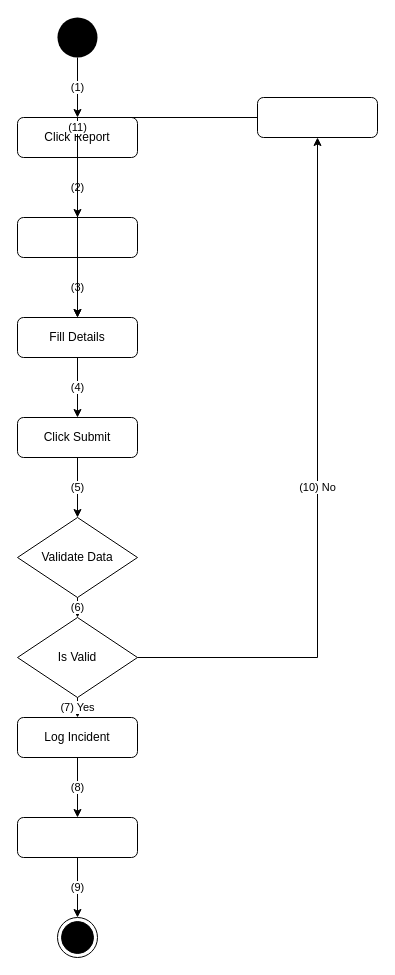
Some shapes in this 395 by 975 pixel diagram are drawn without their labels. Here are the shapes that lost their labels. From the top down, the box of each, then its label:
(256, 96, 378, 138): Show Error
(16, 216, 138, 258): Display Form
(16, 816, 138, 858): Notify TM
